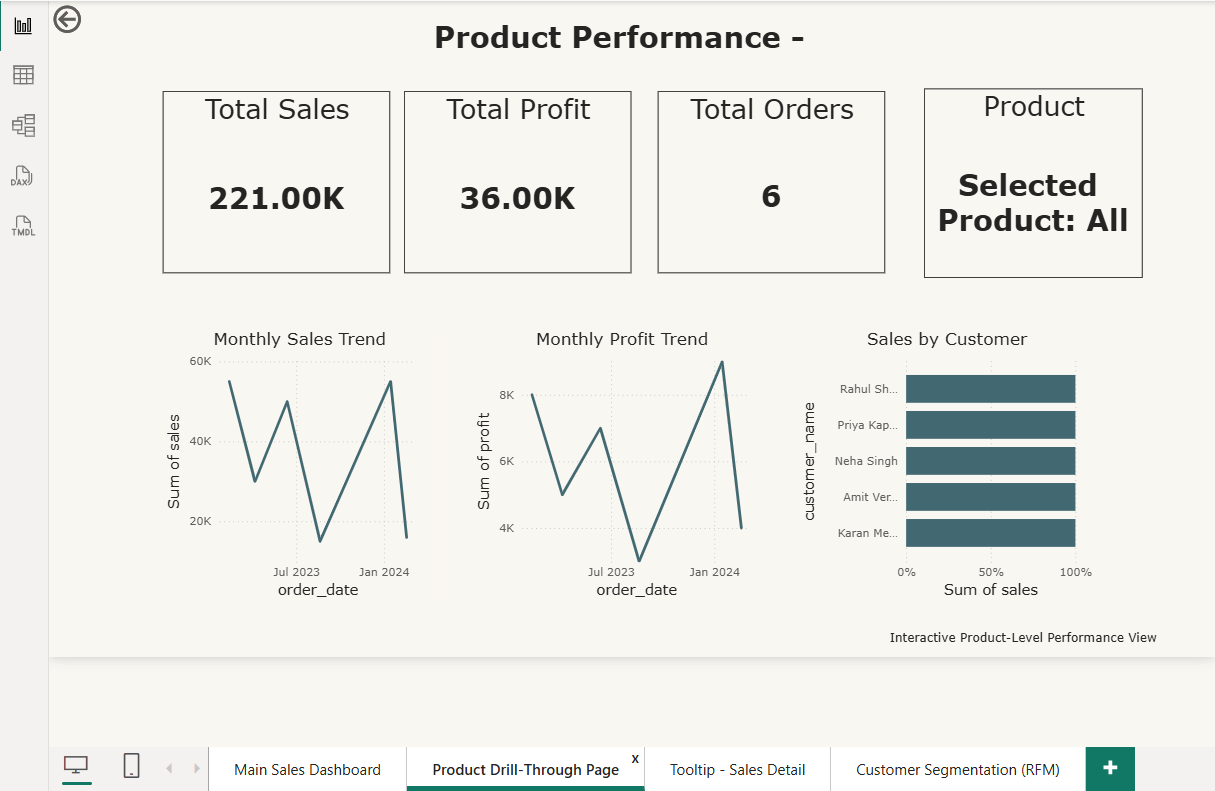

The dashboard page shown, as its layout file describes it:
{"tool":"powerbi","page":{"name":"Product Drill-Through Page","canvas":[1280,720],"ordinal":1},"visuals":[{"type":"actionButton","box":[0,0,100,40],"z":0},{"type":"card","title":"Total Sales","fields":{"Values":["Sum(orders.sales)"]},"box":[124.9,98.8,249.7,200.3],"z":1000},{"type":"card","title":"Total Profit","fields":{"Values":["Sum(orders.profit)"]},"box":[389.7,98.8,249.7,200.3],"z":2000},{"type":"lineChart","title":"Monthly Sales Trend","fields":{"Y":["Sum(orders.sales)"],"Category":["orders.order_date"]},"box":[125,360,301,301],"z":3000},{"type":"lineChart","title":"Monthly Profit Trend","fields":{"Y":["Sum(orders.profit)"],"Category":["orders.order_date"]},"box":[465,360,328,301],"z":4000},{"type":"hundredPercentStackedBarChart","title":"Sales by Customer","fields":{"Category":["customers.customer_name"],"Y":["Sum(orders.sales)"]},"box":[822,360,328,301],"z":5000},{"type":"actionButton","box":[0,0,100,40],"z":6000},{"type":"textbox","box":[859,684.7,421.3,35.7],"z":7000},{"type":"card","title":"Total Orders","fields":{"Values":["customers.Total Orders"]},"box":[668.3,98.8,249.7,200.3],"z":8000},{"type":"card","title":"Product","fields":{"Values":["customers.Selected Product Label"]},"box":[960,96,240,208],"z":9000},{"type":"card","fields":{"Values":["customers.Product Detail Title"]},"box":[320,0,624,80],"z":10000}]}

Visuals, with their boxes on the page's 1280x720 design canvas (x1, y1, x2, y2). These are canvas units, not pixel positions in the 1215x791 screenshot, which may show the page scaled, cropped or inside an application window:
actionButton: l=0, t=0, r=100, b=40
"Total Sales" card: l=125, t=99, r=375, b=299
"Total Profit" card: l=390, t=99, r=639, b=299
"Monthly Sales Trend" lineChart: l=125, t=360, r=426, b=661
"Monthly Profit Trend" lineChart: l=465, t=360, r=793, b=661
"Sales by Customer" hundredPercentStackedBarChart: l=822, t=360, r=1150, b=661
actionButton: l=0, t=0, r=100, b=40
textbox: l=859, t=685, r=1280, b=720
"Total Orders" card: l=668, t=99, r=918, b=299
"Product" card: l=960, t=96, r=1200, b=304
card - customers.Product Detail Title: l=320, t=0, r=944, b=80
